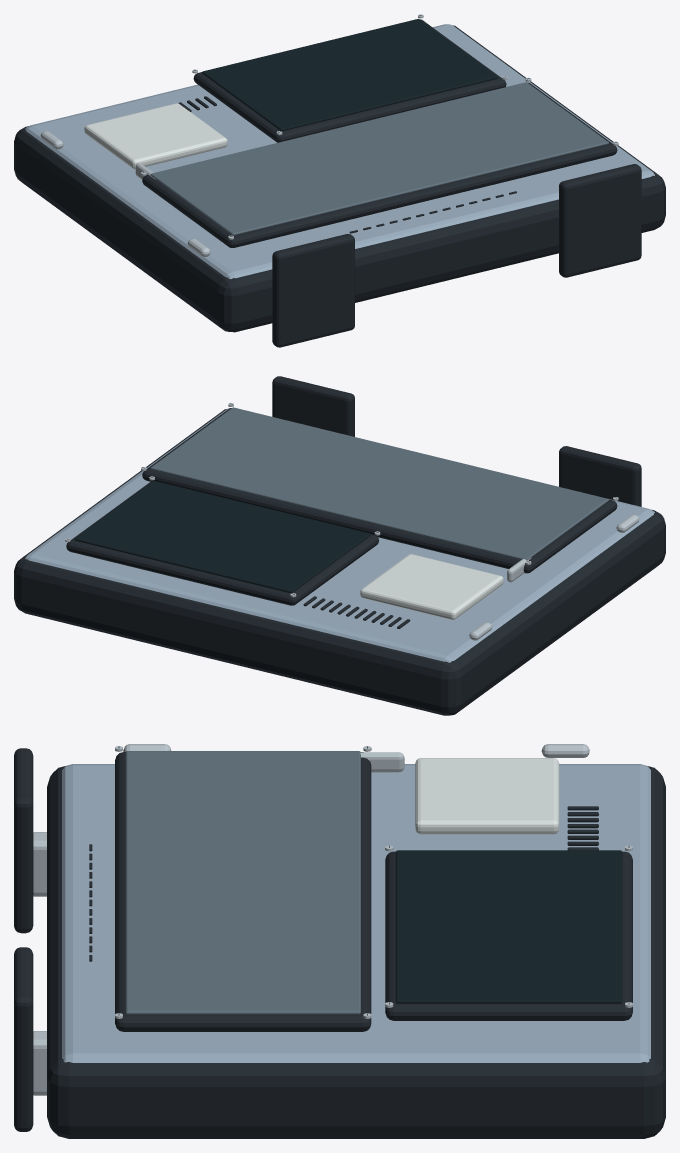
The model's file is gas.glb.
The picture shows the model from 3 angles, top to bottom: view 1: azimuth 30°, elevation 25°; view 2: azimuth 150°, elevation 25°; view 3: azimuth 270°, elevation 25°; orthographic projection. The views are drawn at different scales.
Visible parts, largest first — view 1: deck live content surface.010, Gasket enclosure.002, Front folded cabinet.002, screen live content surface.010, Rubber machine foot.016, Rubber machine foot.017, deck mounting bezel.010, Equipment identity plate.010, screen mounting bezel.010; view 2: Gasket enclosure.002, deck live content surface.010, Front folded cabinet.002, screen live content surface.010, deck mounting bezel.010, Equipment identity plate.010, screen mounting bezel.010, Rubber machine foot.017, Rubber machine foot.016; view 3: deck live content surface.010, Gasket enclosure.002, Front folded cabinet.002, screen live content surface.010, Equipment identity plate.010, deck mounting bezel.010, screen mounting bezel.010, Rubber machine foot.016, Rubber machine foot.017, Support column.016, Support column.017, Door handle.002 (+1 smaller).
Part boxes in pixels (x1=…): deck live content surface.010: x1=150, y1=82, x2=608, y2=235; Gasket enclosure.002: x1=14, y1=25, x2=665, y2=332; Front folded cabinet.002: x1=25, y1=24, x2=654, y2=278; screen live content surface.010: x1=202, y1=19, x2=497, y2=131; Rubber machine foot.016: x1=272, y1=234, x2=354, y2=347; Rubber machine foot.017: x1=559, y1=164, x2=641, y2=277; deck mounting bezel.010: x1=142, y1=82, x2=617, y2=247; Equipment identity plate.010: x1=84, y1=103, x2=227, y2=169; screen mounting bezel.010: x1=193, y1=19, x2=506, y2=142; Gasket enclosure.002: x1=14, y1=409, x2=665, y2=715; deck live content surface.010: x1=150, y1=407, x2=608, y2=560; Front folded cabinet.002: x1=25, y1=408, x2=654, y2=662; screen live content surface.010: x1=74, y1=481, x2=370, y2=593; deck mounting bezel.010: x1=142, y1=408, x2=617, y2=573; Equipment identity plate.010: x1=360, y1=554, x2=503, y2=619; screen mounting bezel.010: x1=66, y1=481, x2=379, y2=605; Rubber machine foot.017: x1=272, y1=376, x2=354, y2=436; Rubber machine foot.016: x1=559, y1=446, x2=641, y2=506; deck live content surface.010: x1=125, y1=751, x2=360, y2=1014; Gasket enclosure.002: x1=47, y1=766, x2=665, y2=1138; Front folded cabinet.002: x1=62, y1=764, x2=650, y2=1062; screen live content surface.010: x1=395, y1=850, x2=622, y2=1003; Equipment identity plate.010: x1=415, y1=758, x2=559, y2=834; deck mounting bezel.010: x1=115, y1=752, x2=371, y2=1031; screen mounting bezel.010: x1=385, y1=851, x2=632, y2=1020; Rubber machine foot.016: x1=14, y1=748, x2=33, y2=933; Rubber machine foot.017: x1=14, y1=947, x2=33, y2=1131; Support column.016: x1=33, y1=832, x2=46, y2=896; Support column.017: x1=33, y1=1031, x2=46, y2=1095; Door handle.002: x1=360, y1=752, x2=404, y2=772.
Size of the model in its own units: 8.4 by 1.7 by 7.48.
